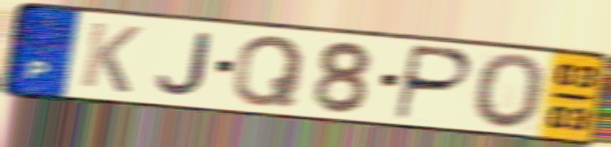8: (310, 39, 377, 116)
J: (153, 31, 213, 98)
K: (76, 19, 145, 96)
O: (471, 51, 549, 132)
P: (390, 42, 476, 123)
Q: (229, 32, 308, 108)
